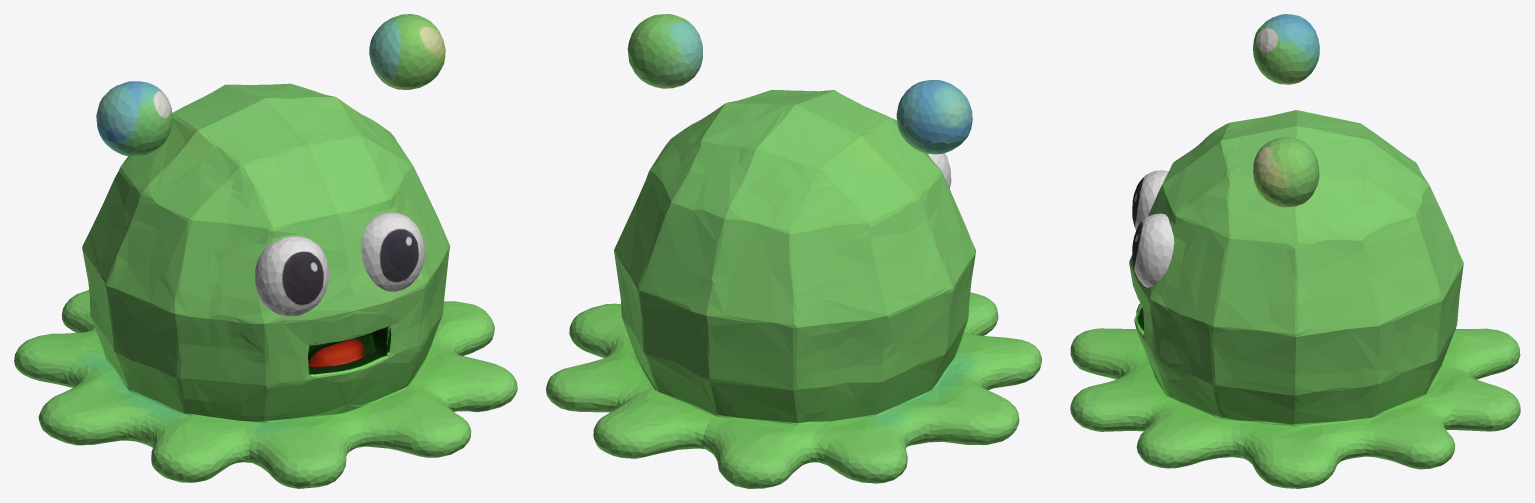
The model's file is potion-slime.glb.
The picture shows the model from 3 angles, left to right: view 1: azimuth 30°, elevation 25°; view 2: azimuth 150°, elevation 25°; view 3: azimuth 270°, elevation 25°; orthographic projection. The views are drawn at different scales.
Visible parts, largest first — view 1: PotionSlime_body, PotionSlime_eyes, PotionSlime_smile; view 2: PotionSlime_body; view 3: PotionSlime_body, PotionSlime_eyes.
Boxes of the visible parts, box(x1,y1,x2,y2) form: PotionSlime_body: box(14, 14, 517, 488); PotionSlime_eyes: box(255, 212, 424, 316); PotionSlime_smile: box(308, 327, 391, 374); PotionSlime_body: box(546, 14, 1041, 488); PotionSlime_body: box(1070, 14, 1520, 488); PotionSlime_eyes: box(1132, 170, 1174, 287).
Bounding box in the file's own units: 5.4 × 4 × 5.12.
Materials: 3 (3 with a texture image).
